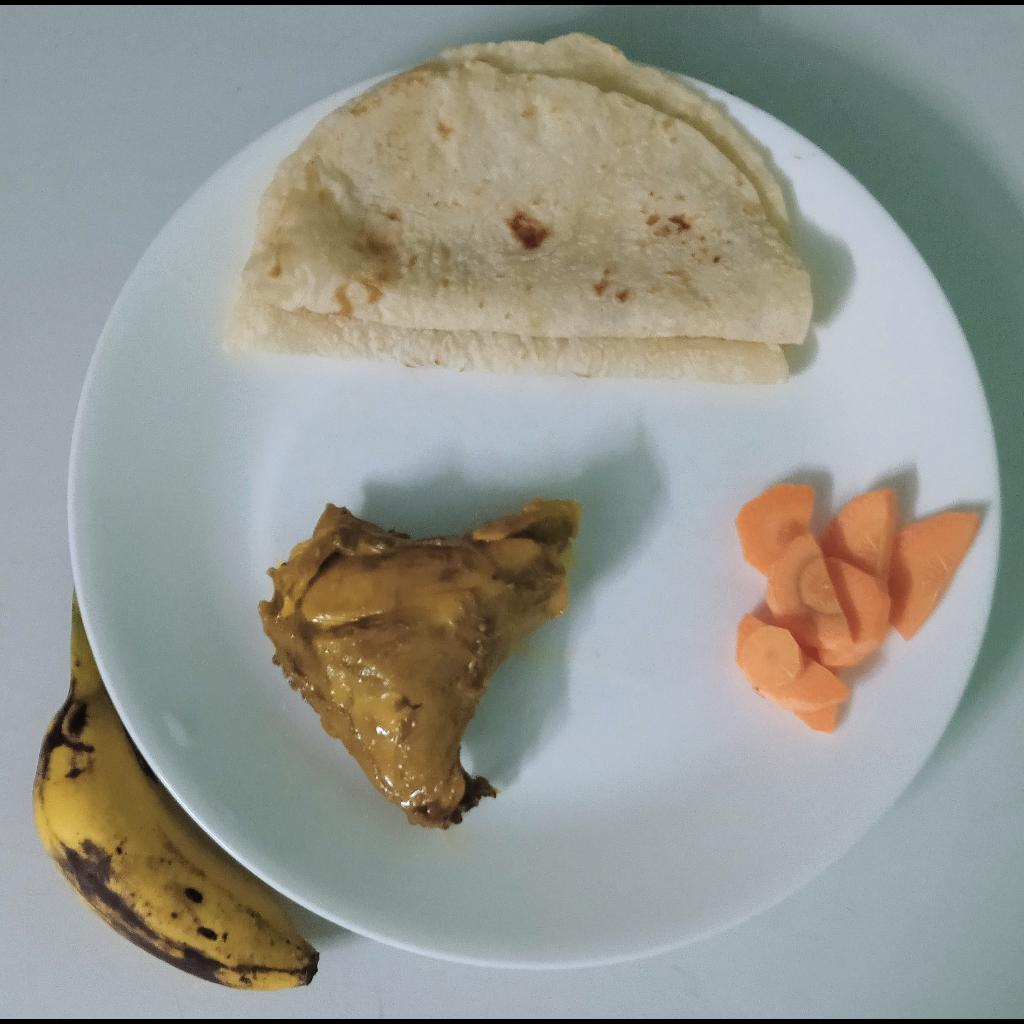banana: (28, 623, 321, 992)
carrot: (732, 481, 981, 736)
chicken: (258, 496, 581, 831)
ruti: (223, 31, 815, 382)
